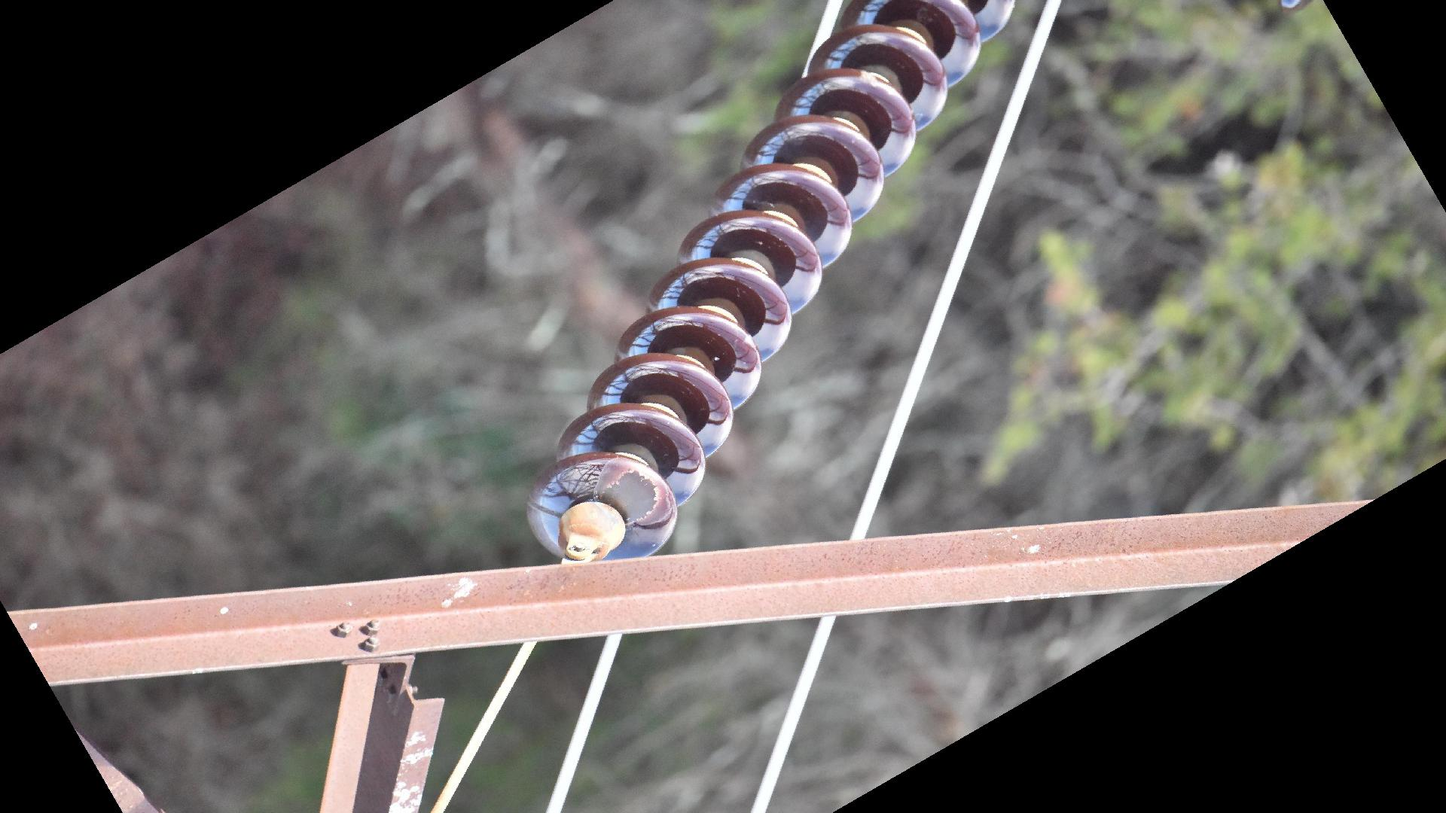insulator: (517, 1, 1021, 569)
insulator_flashover: (598, 467, 660, 530)
